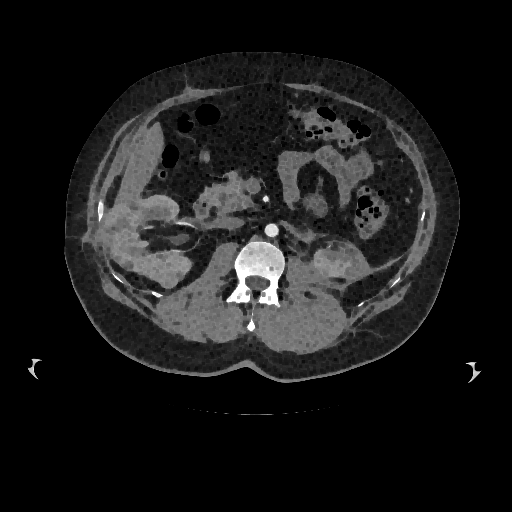Lesion: (154, 272, 181, 293)
